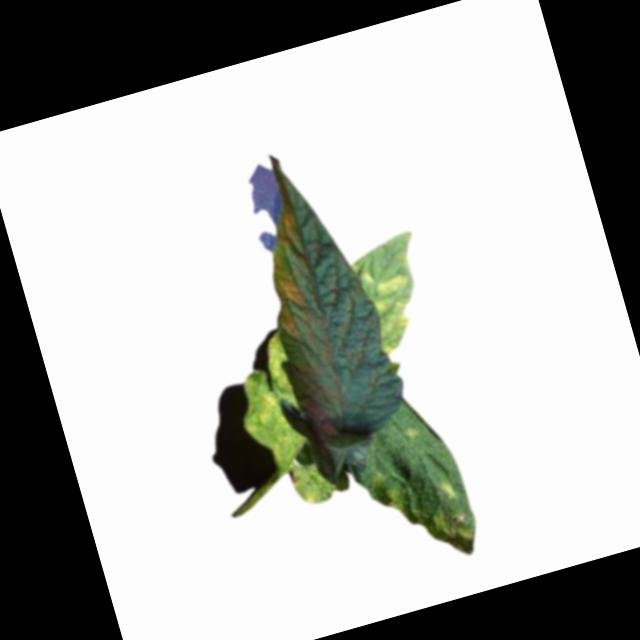Leaf_Mold: (367, 450, 484, 576), (223, 334, 318, 476), (352, 248, 428, 357), (267, 260, 320, 340), (272, 203, 306, 249)
